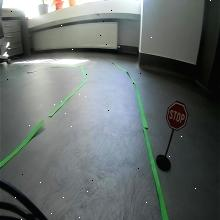stop: (166, 100, 189, 131)
